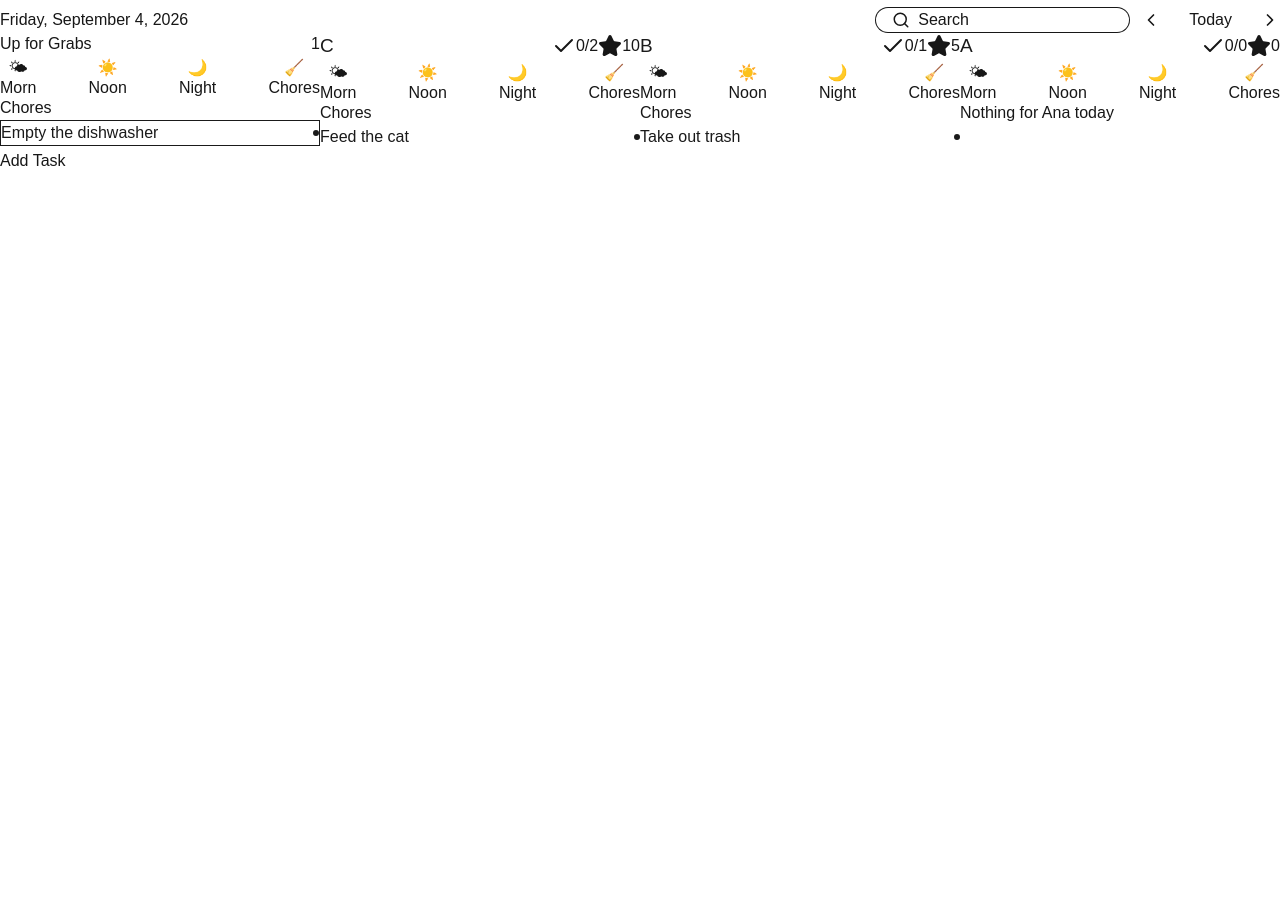
it: TasksBoard › the write surface (T057) › opens the edit form on the task the tapped occurrence belongs to
Click the button "Feed the cat" at (364, 136), box left=320, top=124, right=634, bottom=148
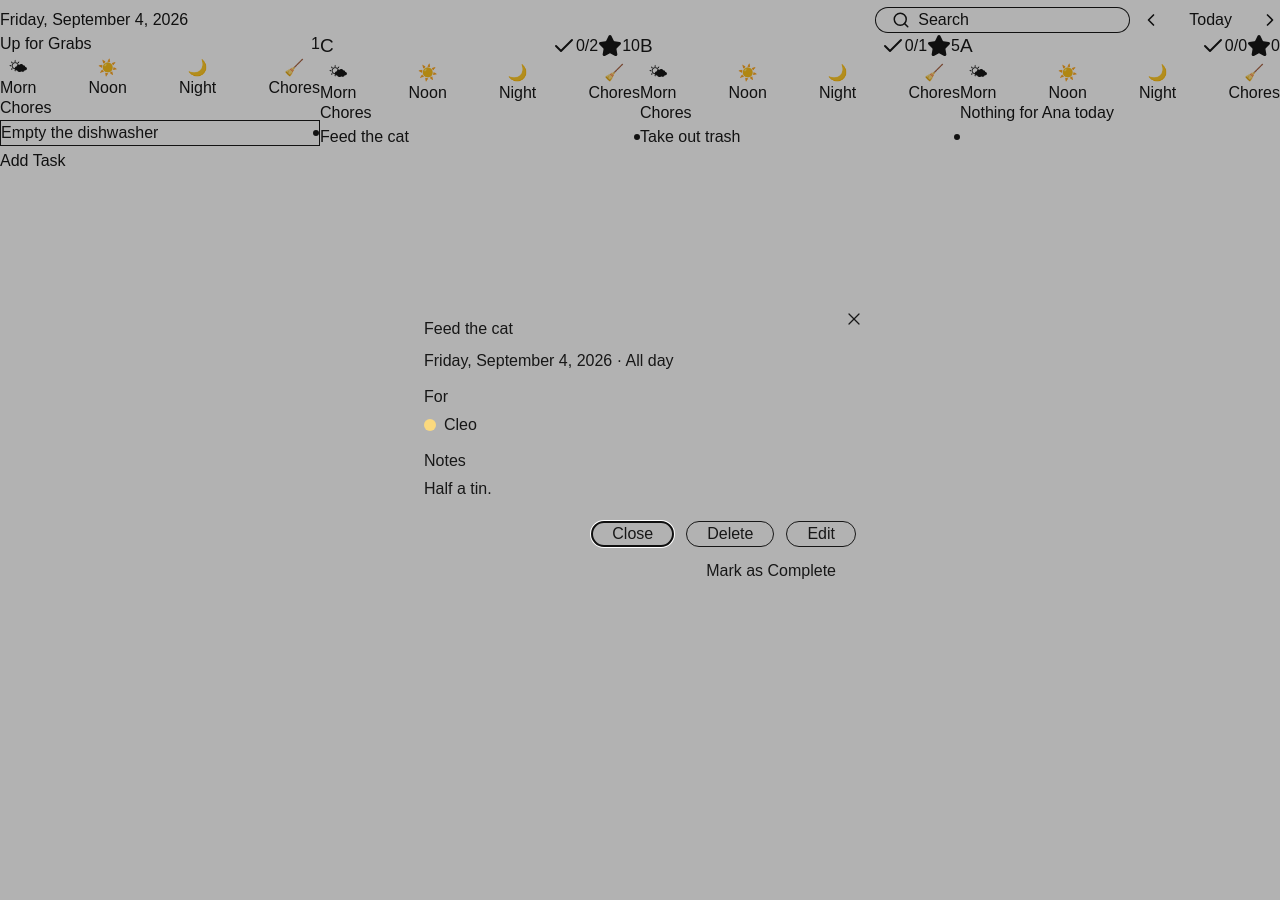
Click the button "Edit" at (821, 534), box left=786, top=521, right=856, bottom=547
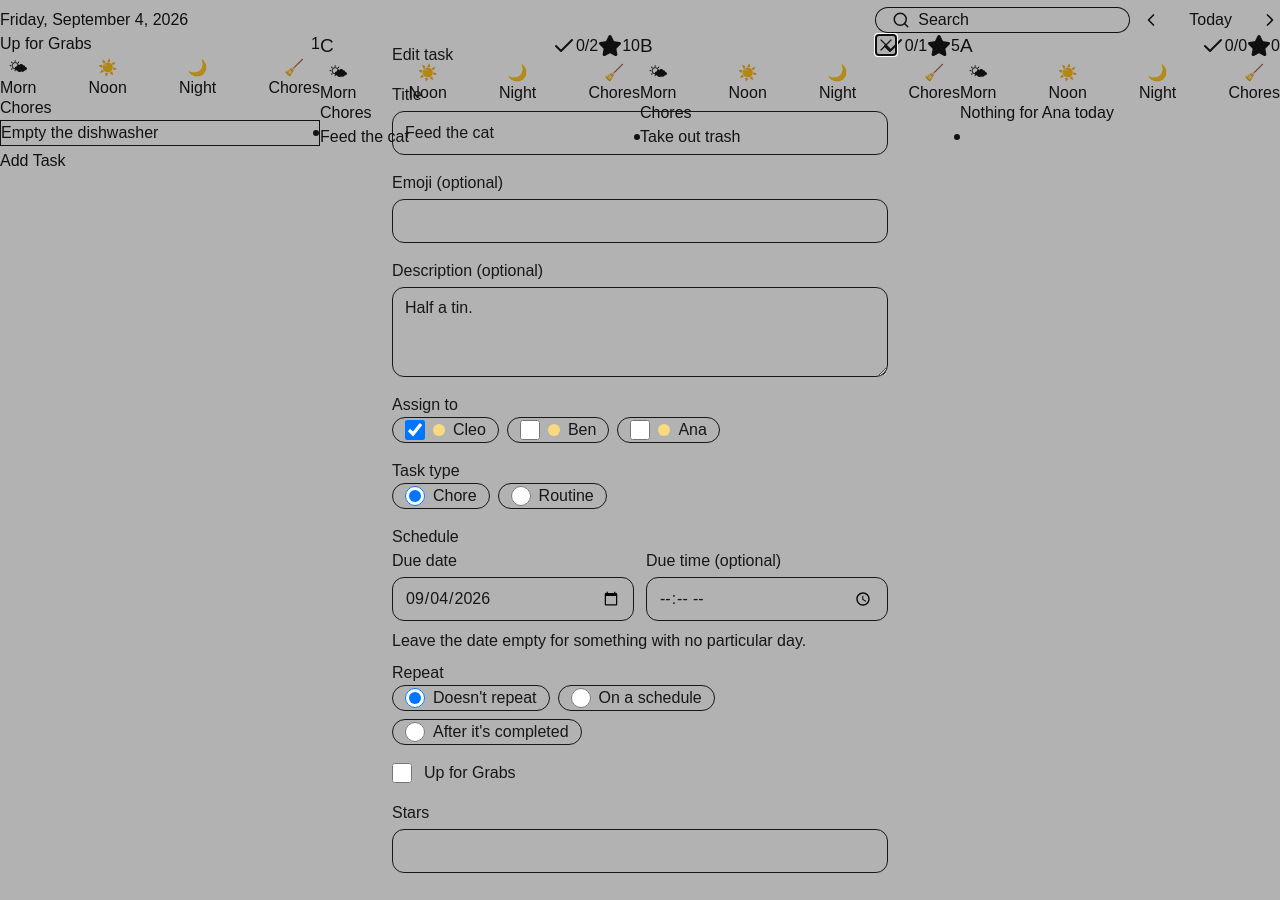
Result: the heading "Edit task" is shown at left=392, top=43, right=453, bottom=67
Result: the field labelled "Title" holds "Feed the cat" at left=392, top=111, right=888, bottom=155
